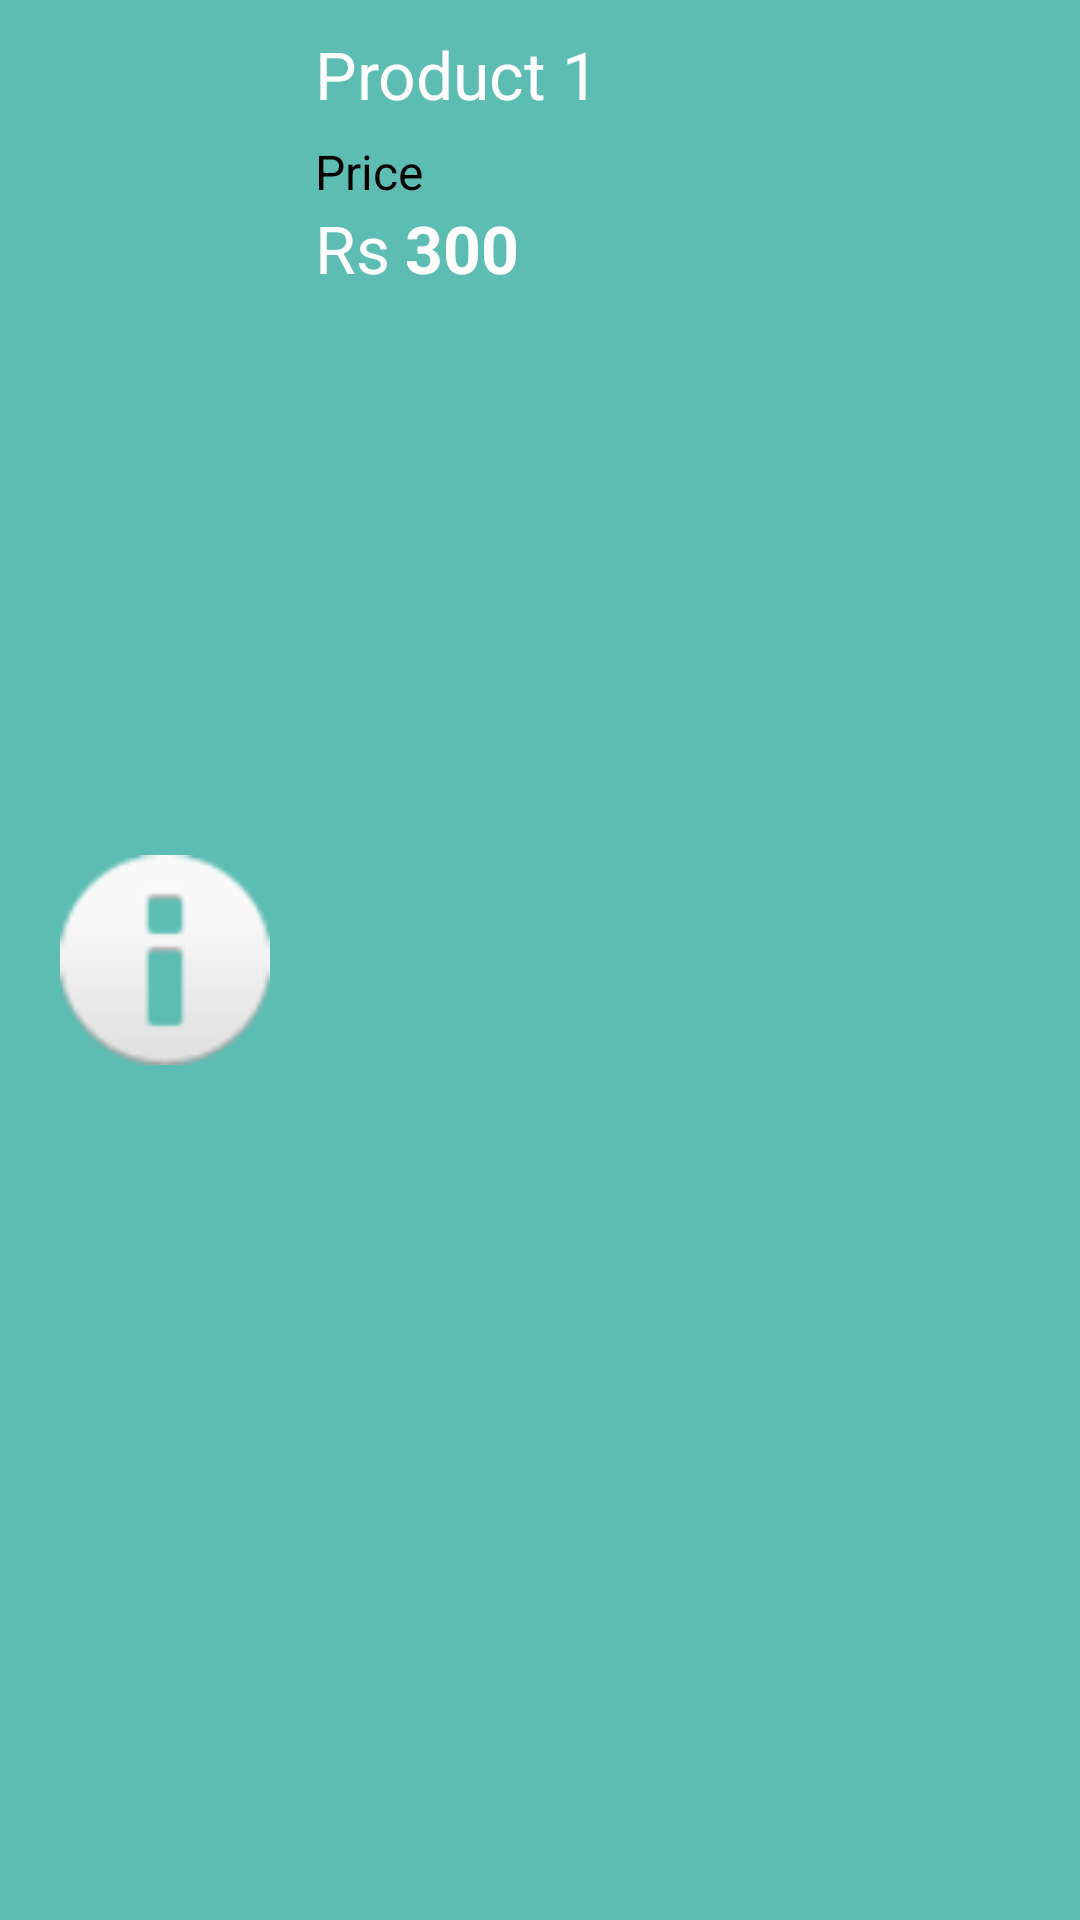

Screen size 1080×1920. Icon name, then its center in pixels as (x=x, y=y):
info: (x=165, y=960)
